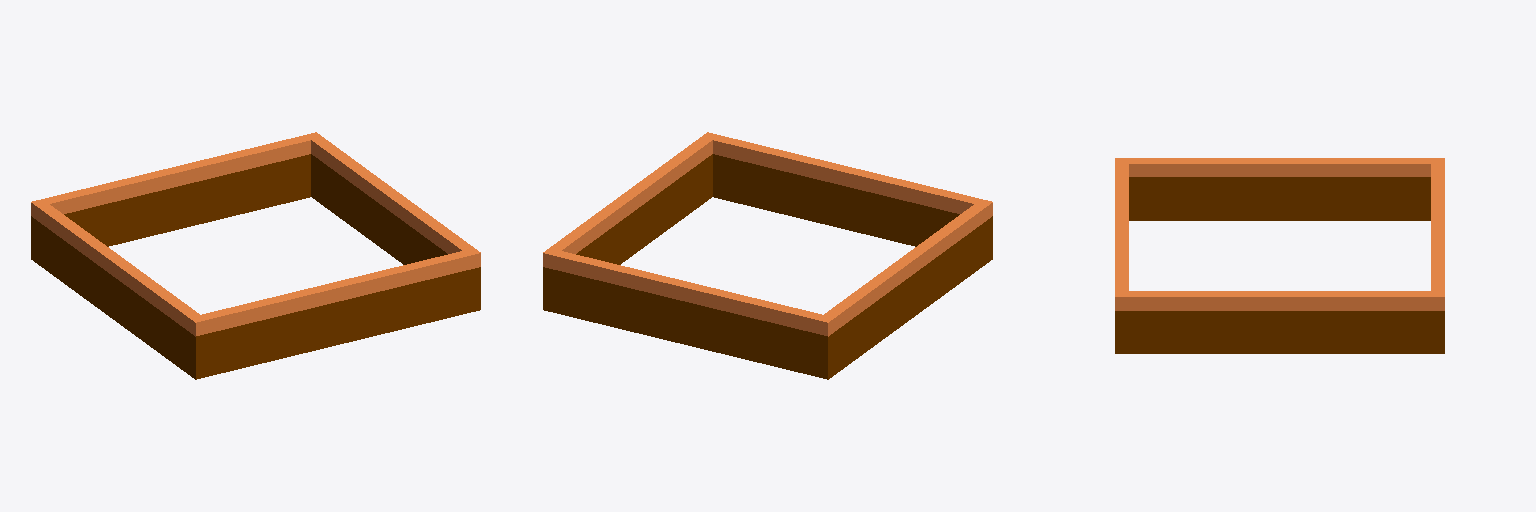
The picture shows the model from 3 angles: view 1: azimuth 30°, elevation 25°; view 2: azimuth 150°, elevation 25°; view 3: azimuth 270°, elevation 25°; orthographic projection.
Parts seen in each view (by area): view 1: City02; view 2: City02; view 3: City02.
Boxes of the visible parts, <box> form: City02: <box>31,132,480,379</box>; City02: <box>543,132,992,379</box>; City02: <box>1115,158,1444,353</box>.
Bounding box in the file's own units: 2 × 0.3816 × 2.
1 materials, 1 textured.